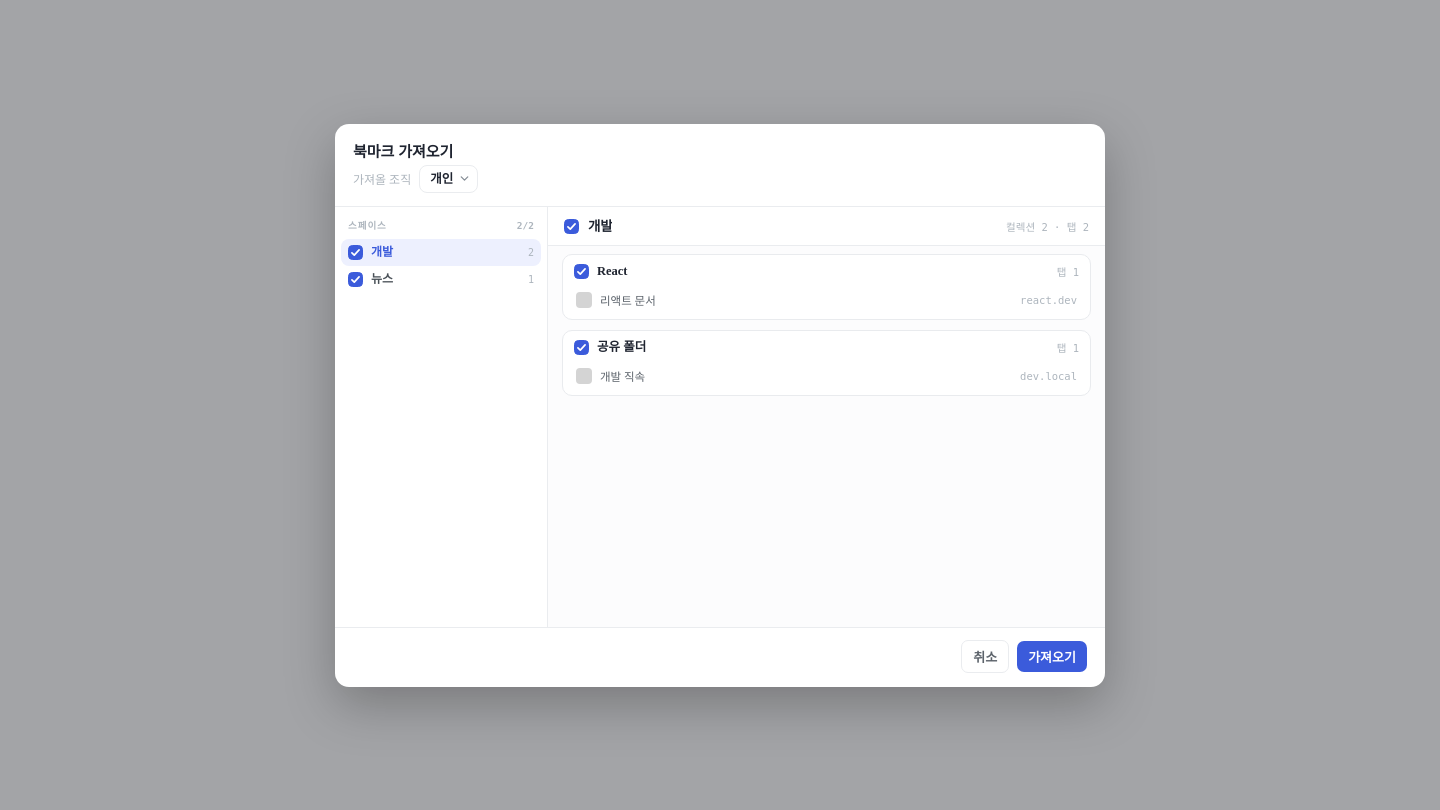
ImportBookmarksDialog › 레일 체크박스는 전환하지 않고 포함/제외만 바꾼다
The width and height of the screenshot is (1440, 810).
Click the checkbox named "뉴스 포함" at (356, 279), box x1=348 y1=272 x2=363 y2=286
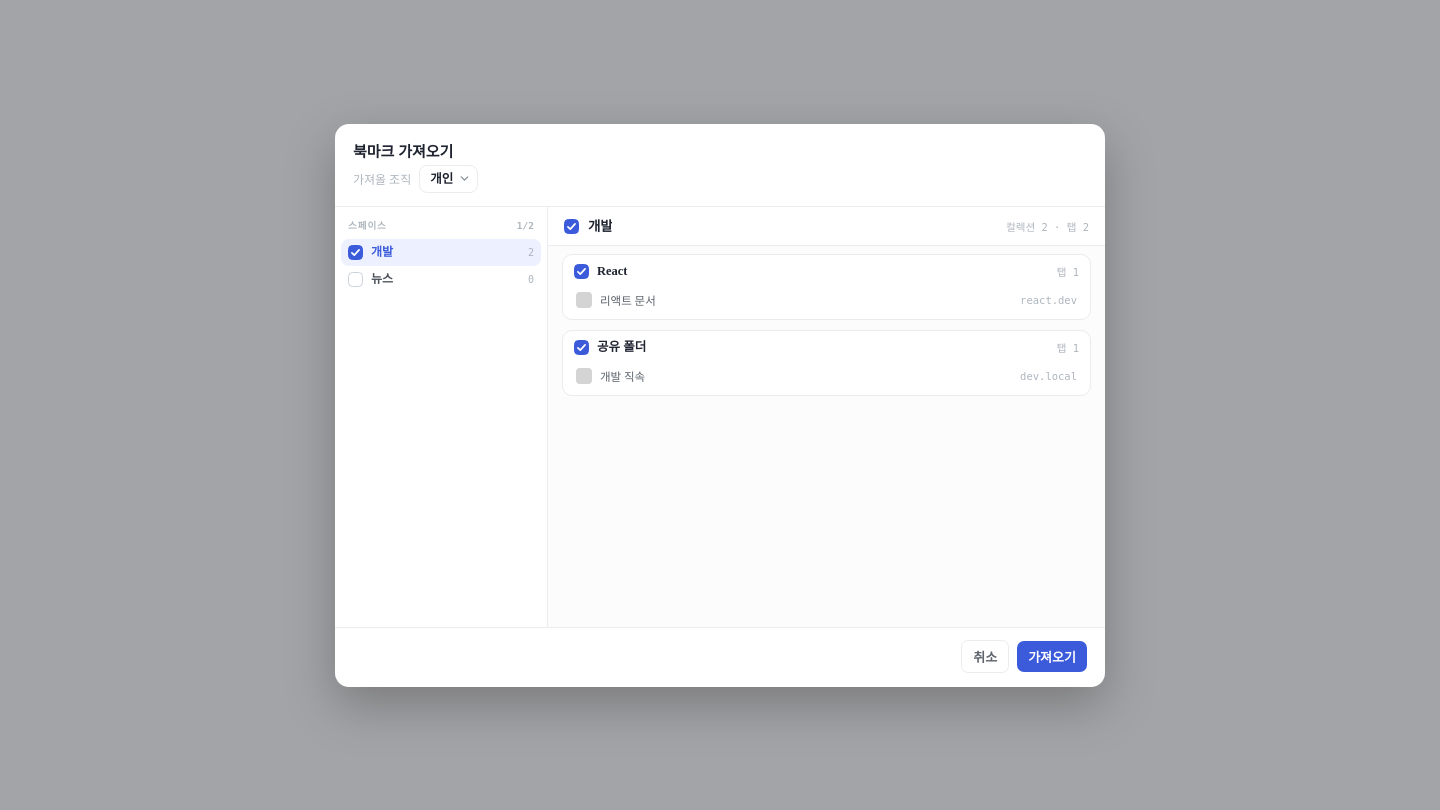
Expected: the element with test id "board-header" shows "개발", x1=588 y1=218 x2=612 y2=234
Now the text with test id "space-count" reads "1/2", box x1=517 y1=220 x2=534 y2=230
